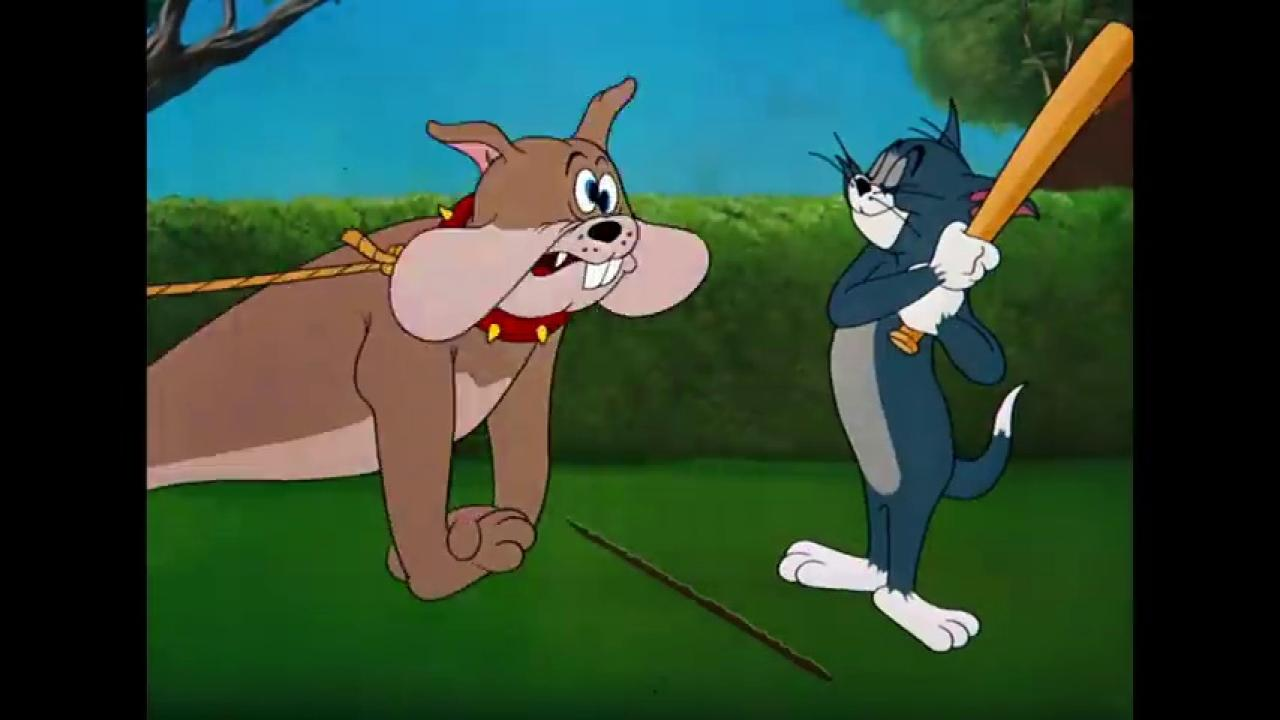Tom: (774, 96, 1044, 658)
